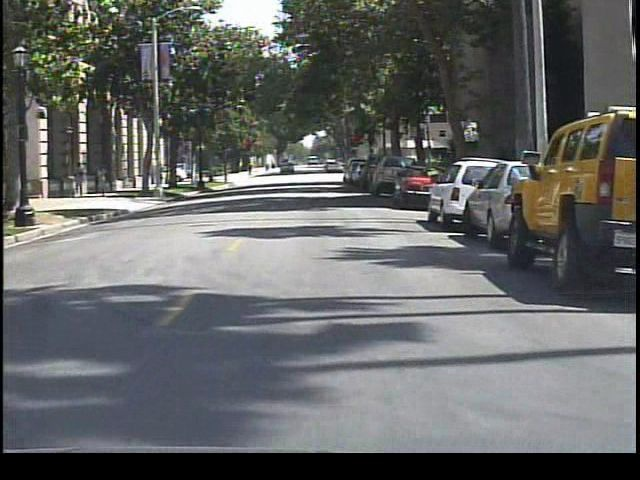person: (93, 161, 117, 199), (70, 160, 91, 201)
